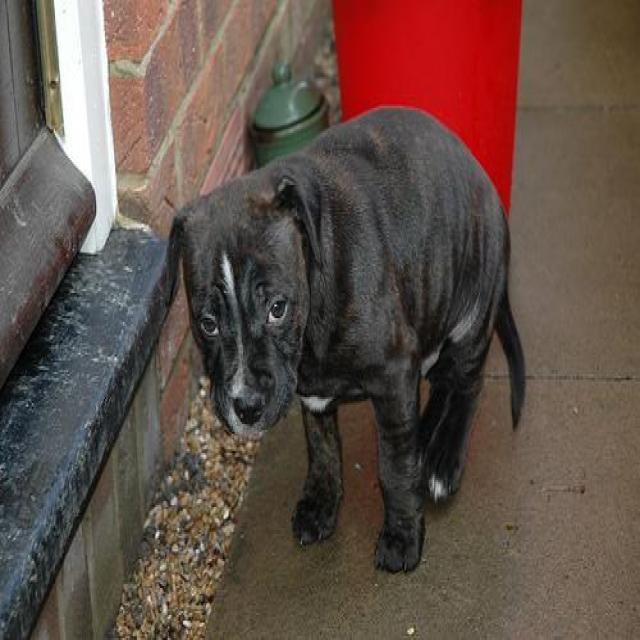staffordshire_bullterrier: (164, 102, 530, 578)
